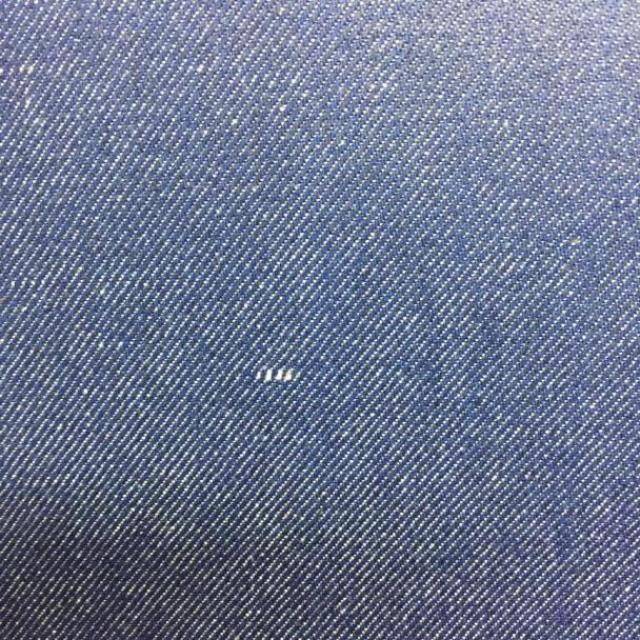Knot: (255, 367, 297, 383)
